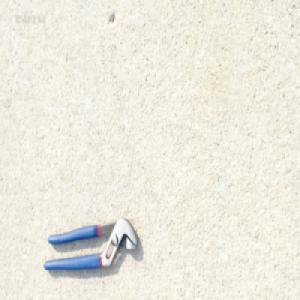Pliers: (42, 215, 139, 272)
